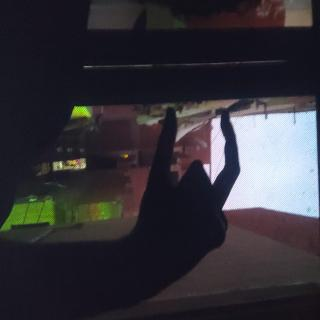DELL: (73, 102, 226, 266)
